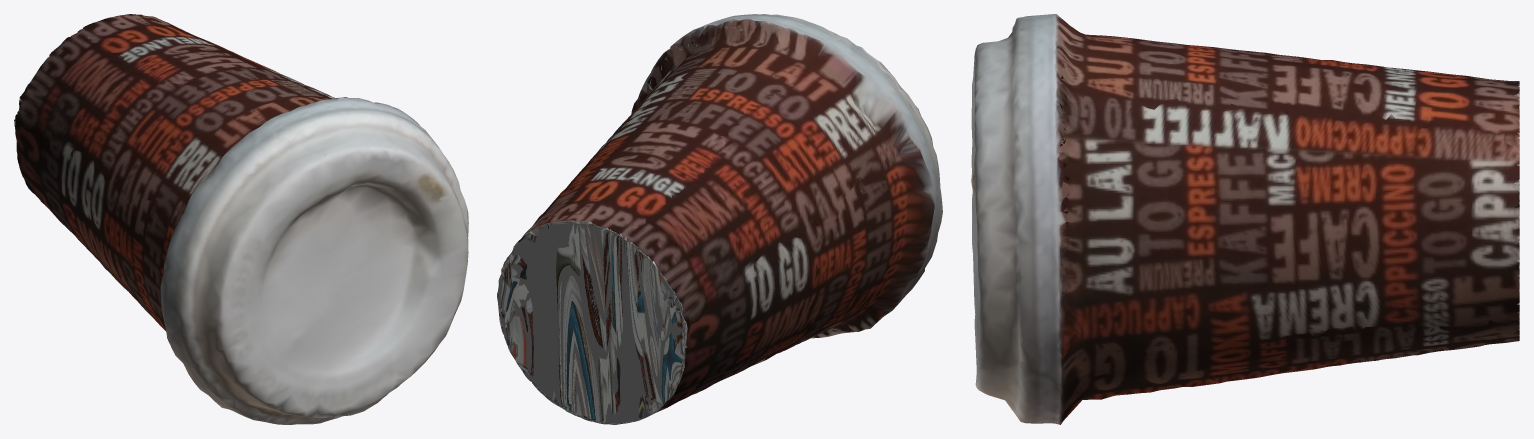
Rendered from coffeecup.obj.
3 views of the same model, side by side, from view 1: azimuth 30°, elevation 25°; view 2: azimuth 150°, elevation 25°; view 3: azimuth 270°, elevation 25° (orthographic). The views are drawn at different scales.
Bounding box in the file's own units: 0.0917 × 0.0893 × 0.1204.
1 material, 1 textured.
